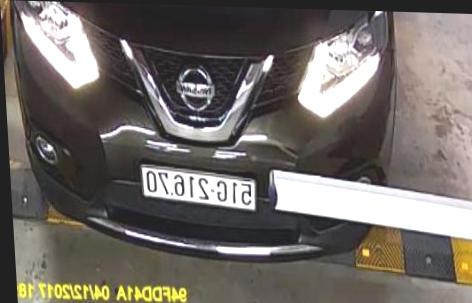License_Plate: (136, 165, 263, 215)
